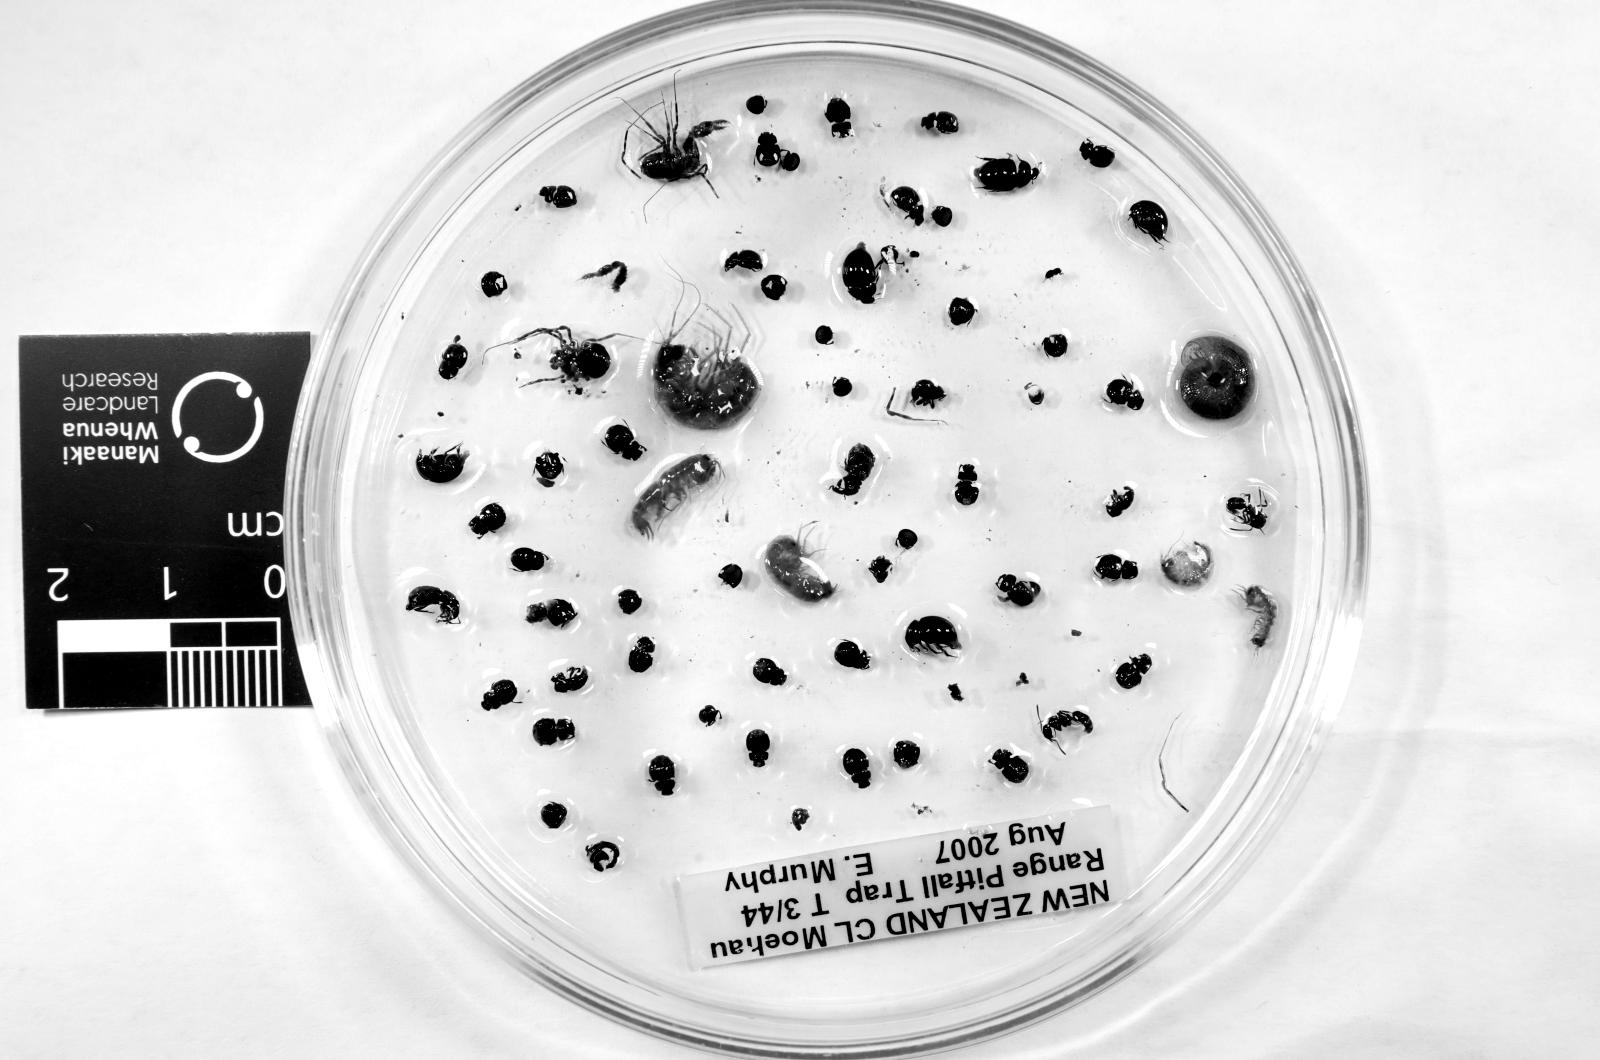amphipoda: (654, 335, 760, 428), (631, 453, 721, 539), (764, 535, 836, 602), (1160, 541, 1213, 588)
chilopoda: (1239, 586, 1277, 648)
coleoptera: (973, 155, 1039, 192), (905, 615, 961, 658), (830, 444, 875, 497), (841, 243, 879, 304), (415, 444, 468, 483), (406, 586, 460, 623), (602, 421, 647, 461), (996, 574, 1041, 607), (989, 748, 1030, 783), (889, 186, 925, 226), (1114, 653, 1152, 690), (468, 503, 507, 538), (438, 335, 468, 380), (532, 717, 576, 746), (1106, 377, 1144, 411), (841, 748, 872, 788), (1094, 554, 1139, 581), (824, 96, 851, 138), (647, 755, 675, 795), (834, 639, 869, 670), (481, 679, 517, 710), (954, 464, 979, 506), (628, 636, 656, 673), (551, 666, 589, 693), (745, 729, 771, 768), (911, 379, 945, 408), (1080, 140, 1115, 168), (1105, 485, 1135, 517), (752, 658, 786, 686), (756, 131, 783, 167), (723, 248, 764, 271), (538, 185, 577, 208), (511, 548, 546, 573), (921, 111, 958, 135)
formicidae: (1041, 710, 1094, 748), (1225, 493, 1268, 532)
gastropoda: (1177, 335, 1255, 420)
opiliones: (518, 325, 611, 393), (640, 118, 730, 181)
